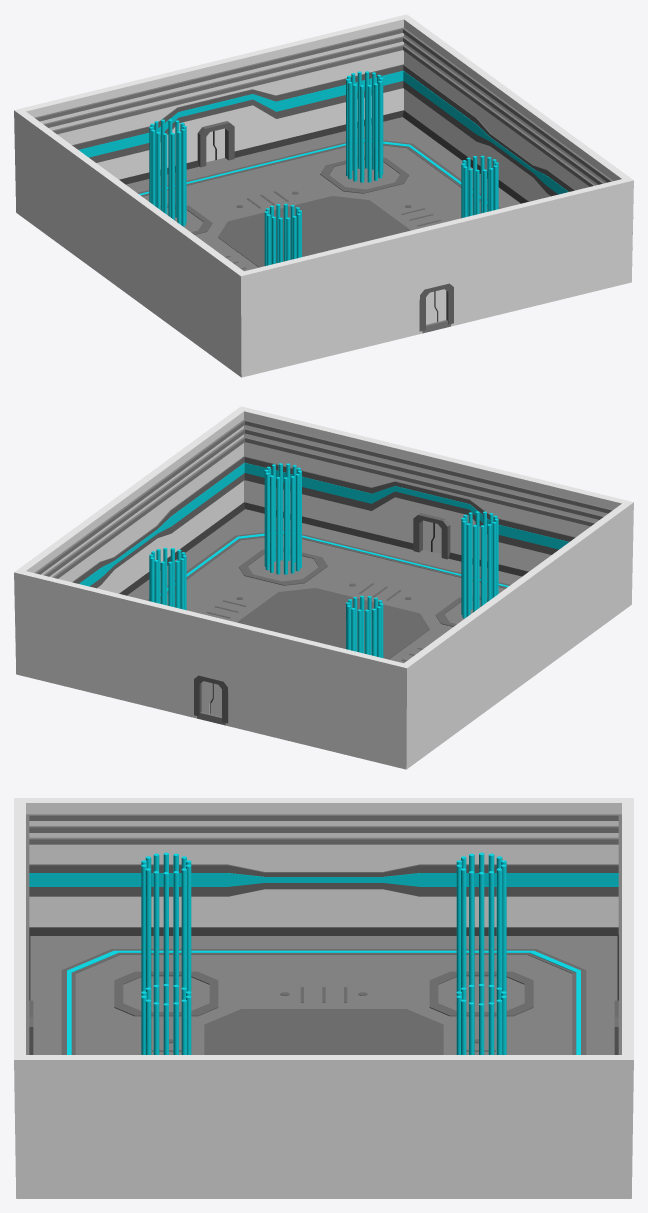
File: BossRoom2.fbx
The picture shows the model from 3 angles, top to bottom: view 1: azimuth 30°, elevation 25°; view 2: azimuth 150°, elevation 25°; view 3: azimuth 270°, elevation 25°; orthographic projection. The views are drawn at different scales.
Visible parts, largest first — view 1: Cube.016, Cube.006, Cube.017, Cube.024, Cube.014, Cube.019, Cylinder.003, Cylinder.008, Cube.018, Cylinder.001, Cylinder.004, Room3.007 (+2 smaller); view 2: Cube.016, Cube.006, Cube.017, Cube.024, Cube.014, Cube.019, Cylinder.001, Cylinder.004, Cube.018, Cylinder.003, Cylinder.008, Room3.006 (+2 smaller); view 3: Cube.014, Cube.006, Cube.017, Cube.024, Cube.016, Cube.019, Cylinder.004, Cylinder.008, Cube.018, Cylinder.001, Cylinder.003, Plane.
Boxes of the visible parts, box(x1,y1,x2,y2) form: Cube.016: box(14, 14, 633, 377); Cube.006: box(126, 117, 520, 333); Cube.017: box(14, 110, 243, 377); Cube.024: box(34, 27, 613, 196); Cube.014: box(404, 14, 633, 265); Cube.019: box(79, 70, 568, 194); Cylinder.003: box(346, 71, 383, 182); Cylinder.008: box(149, 119, 186, 226); Cube.018: box(119, 110, 528, 203); Cylinder.001: box(461, 155, 498, 218); Cylinder.004: box(264, 203, 301, 265); Room3.007: box(197, 121, 234, 167); Cube.016: box(14, 406, 633, 769); Cube.006: box(127, 509, 521, 725); Cube.017: box(404, 502, 633, 769); Cube.024: box(34, 419, 613, 588); Cube.014: box(14, 406, 243, 657); Cube.019: box(79, 462, 568, 586); Cylinder.001: box(264, 463, 301, 574); Cylinder.004: box(461, 511, 498, 618); Cube.018: box(119, 502, 528, 595); Cylinder.003: box(149, 547, 186, 610); Cylinder.008: box(346, 595, 383, 657); Room3.006: box(413, 513, 450, 559); Cube.014: box(14, 1055, 633, 1198); Cube.006: box(30, 936, 617, 1054); Cube.017: box(14, 798, 633, 927); Cube.024: box(26, 814, 621, 1054); Cube.016: box(14, 798, 633, 1059); Cube.019: box(29, 873, 618, 886); Cylinder.004: box(141, 852, 191, 991); Cylinder.008: box(456, 852, 506, 991); Cube.018: box(29, 927, 618, 1000); Cylinder.001: box(141, 984, 191, 1054); Cylinder.003: box(456, 984, 506, 1054); Plane: box(67, 950, 580, 1054).
Size of the model in its own units: 3489 by 870 by 3489.
Materials: 1 (1 with a texture image).
